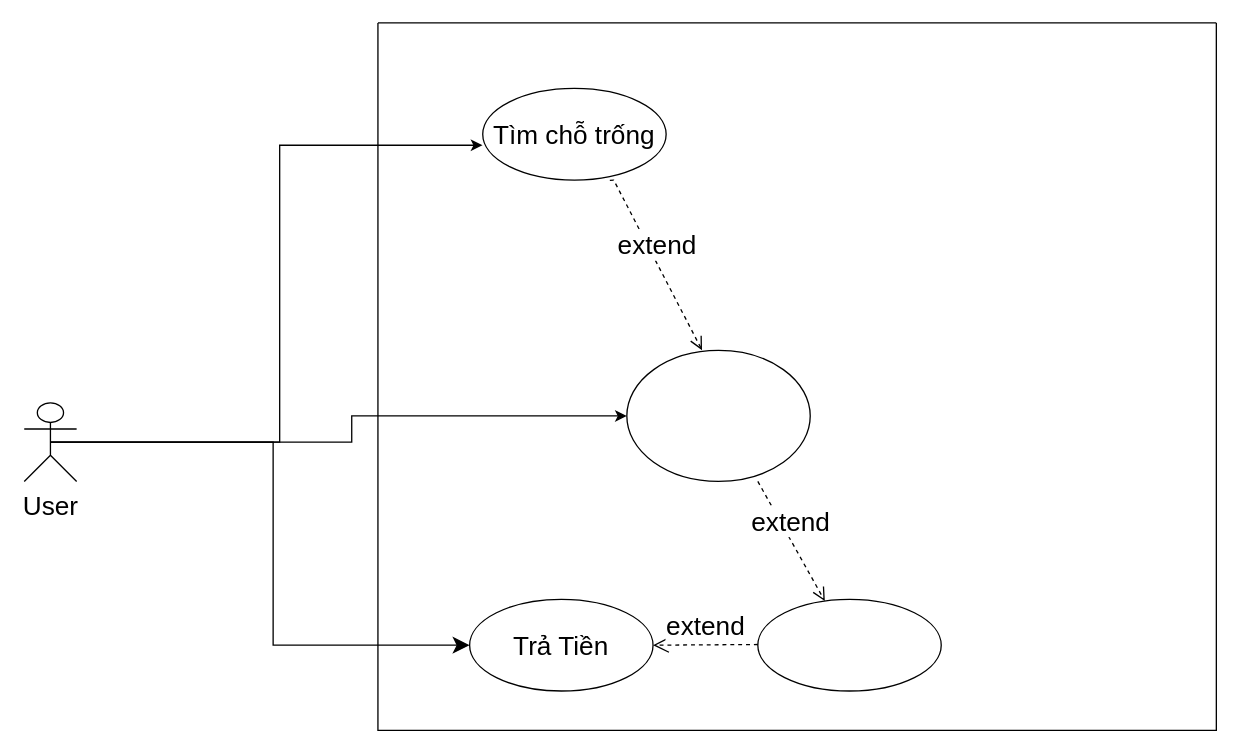
The diagram is 1239 pixels wide and 753 high, and some of its shapes have lost their labels. The centre of each missing label's shape, as x and y in pixels:
Thanh Toán: (x=849, y=644)
Đưa xe vào chỗ trống và khóa xe: (x=718, y=415)
